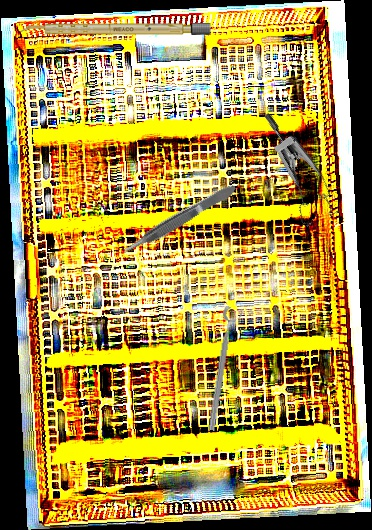Fixation Ring: (204, 305, 245, 433)
Scalpel Handle: (20, 23, 211, 35)
Speculum: (229, 111, 355, 236)
Tissue Forceps: (117, 182, 240, 259)
